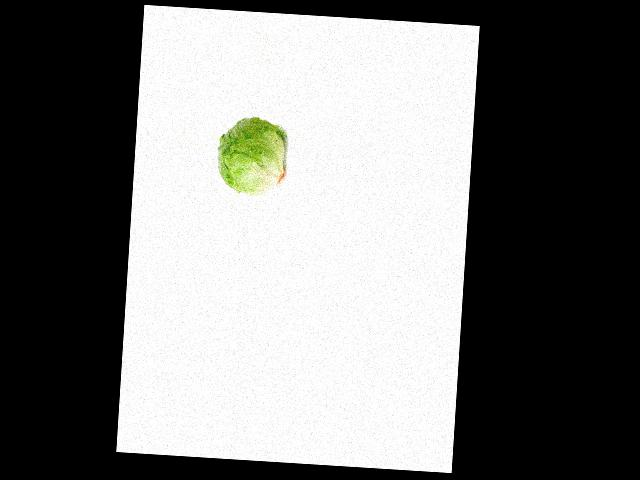lettuce: (215, 115, 286, 192)
